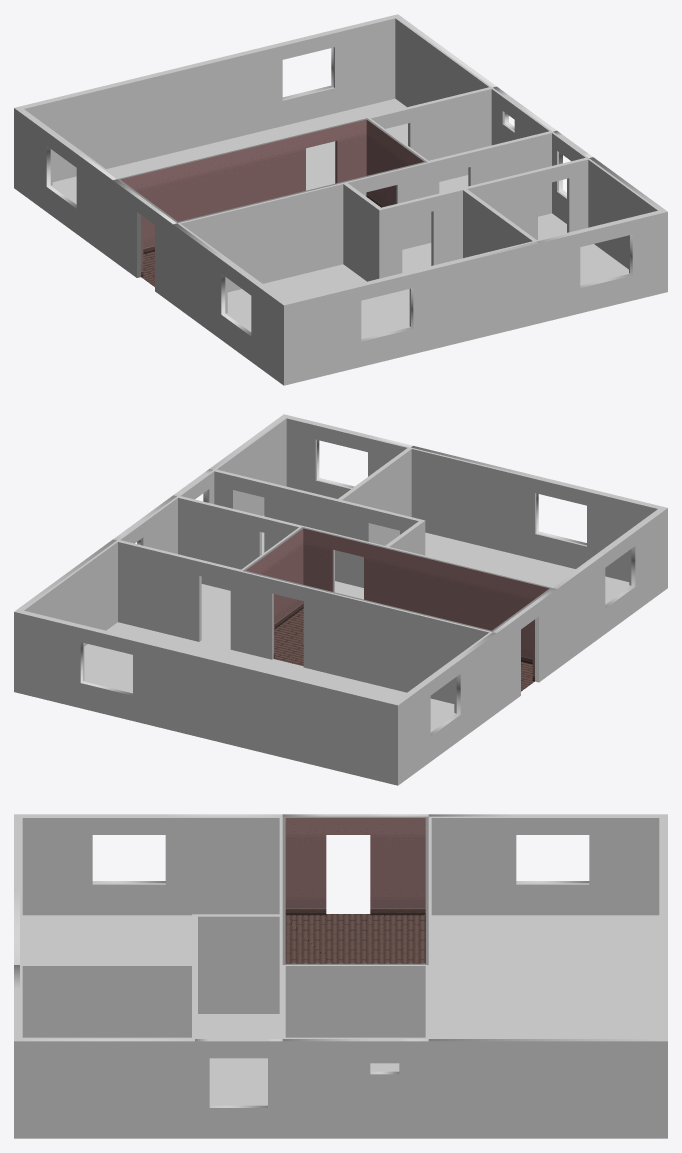
The model's file is House_level_01.FBX.
The picture shows the model from 3 angles, top to bottom: view 1: azimuth 30°, elevation 25°; view 2: azimuth 150°, elevation 25°; view 3: azimuth 270°, elevation 25°; orthographic projection. The views are drawn at different scales.
Parts seen in each view (by area): view 1: Object017, Object009, Object001, Walls_01, Object005, Object003, Plane002, Plane006, Plane004, Object019, Object027, Plane003 (+5 smaller); view 2: Object017, Object009, Object001, Walls_01, Object003, Object005, Plane002, Plane006, Plane004, Object019, Object015, Plane001 (+5 smaller); view 3: Object017, Plane006, Object001, Object009, Object003, Plane002, Walls_01, Plane004, Object005, Plane001, Plane003, Object019 (+5 smaller).
Boxes of the visible parts, x1=… form: Object017: x1=14, y1=14, x2=667, y2=385; Object009: x1=24, y1=18, x2=488, y2=204; Object001: x1=181, y1=184, x2=532, y2=338; Walls_01: x1=120, y1=119, x2=423, y2=276; Object005: x1=348, y1=133, x2=585, y2=265; Object003: x1=467, y1=159, x2=657, y2=285; Plane002: x1=371, y1=89, x2=548, y2=186; Plane006: x1=52, y1=98, x2=407, y2=202; Plane004: x1=227, y1=264, x2=409, y2=337; Object019: x1=21, y1=17, x2=492, y2=178; Object027: x1=177, y1=182, x2=535, y2=302; Plane003: x1=402, y1=213, x2=566, y2=272; Object017: x1=14, y1=414, x2=667, y2=785; Object009: x1=24, y1=542, x2=488, y2=731; Object001: x1=342, y1=449, x2=657, y2=604; Walls_01: x1=246, y1=528, x2=549, y2=681; Object003: x1=217, y1=418, x2=406, y2=515; Object005: x1=181, y1=471, x2=418, y2=592; Plane002: x1=120, y1=498, x2=298, y2=640; Plane006: x1=84, y1=622, x2=454, y2=729; Plane004: x1=425, y1=532, x2=629, y2=602; Object019: x1=21, y1=540, x2=492, y2=702; Object015: x1=201, y1=584, x2=230, y2=648; Plane001: x1=274, y1=608, x2=534, y2=691; Object017: x1=14, y1=814, x2=667, y2=1138; Plane006: x1=431, y1=915, x2=659, y2=1037; Object001: x1=22, y1=818, x2=279, y2=915; Object009: x1=431, y1=818, x2=659, y2=915; Object003: x1=22, y1=966, x2=191, y2=1037; Plane002: x1=285, y1=966, x2=425, y2=1071; Walls_01: x1=285, y1=818, x2=425, y2=915; Plane004: x1=22, y1=915, x2=191, y2=963; Object005: x1=198, y1=916, x2=279, y2=1105; Plane001: x1=285, y1=914, x2=425, y2=963; Plane003: x1=198, y1=1014, x2=279, y2=1104; Object019: x1=428, y1=816, x2=661, y2=1038.
Size of the model in its own units: 184 by 36.75 by 224.
